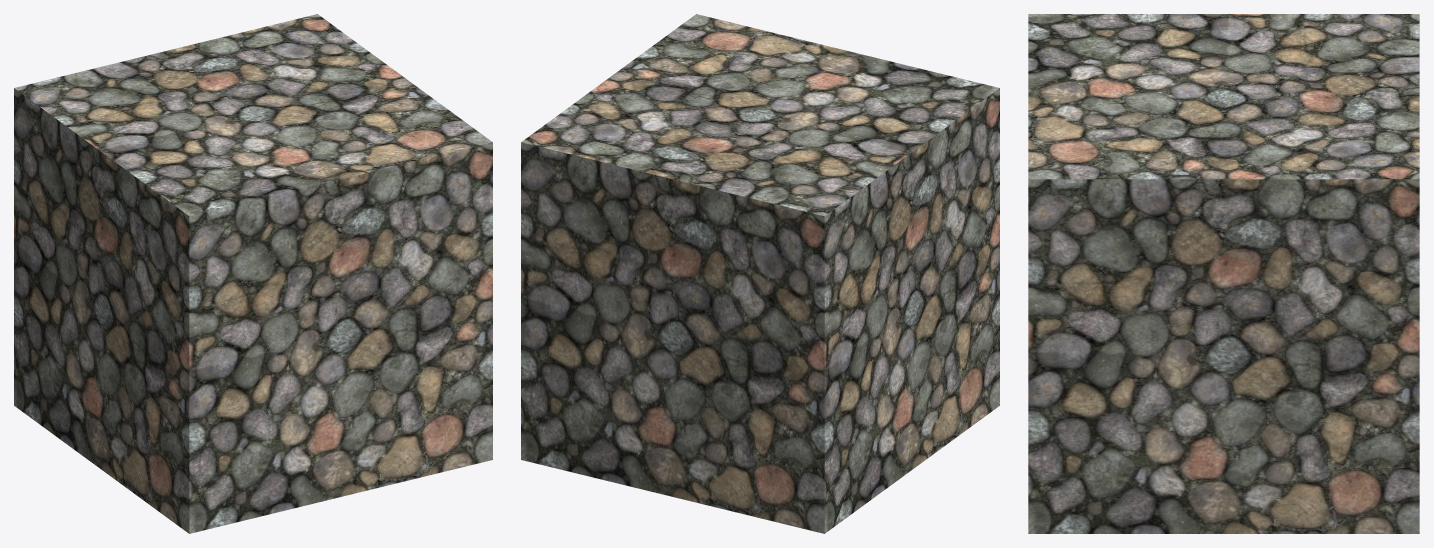
Rendered from art8 004.glb.
3 renders of one model, left to right at view 1: azimuth 30°, elevation 25°; view 2: azimuth 150°, elevation 25°; view 3: azimuth 270°, elevation 25°, orthographic. The views are drawn at different scales.
Parts seen in each view (by area): view 1: TrackedCube; view 2: TrackedCube; view 3: TrackedCube.
Part boxes in pixels (<box>): TrackedCube: <box>14,14,492,533</box>; TrackedCube: <box>521,14,999,533</box>; TrackedCube: <box>1028,14,1419,533</box>.
Bounding box in the file's own units: 0.5 × 0.5 × 0.5.
Materials: 1 (1 with a texture image).
